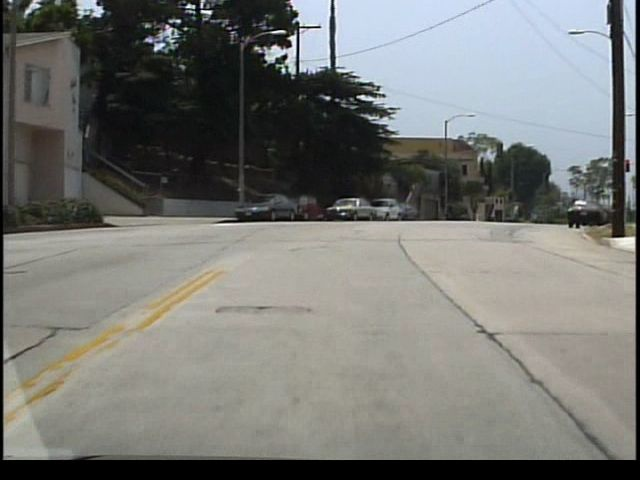person: (514, 203, 522, 224)
